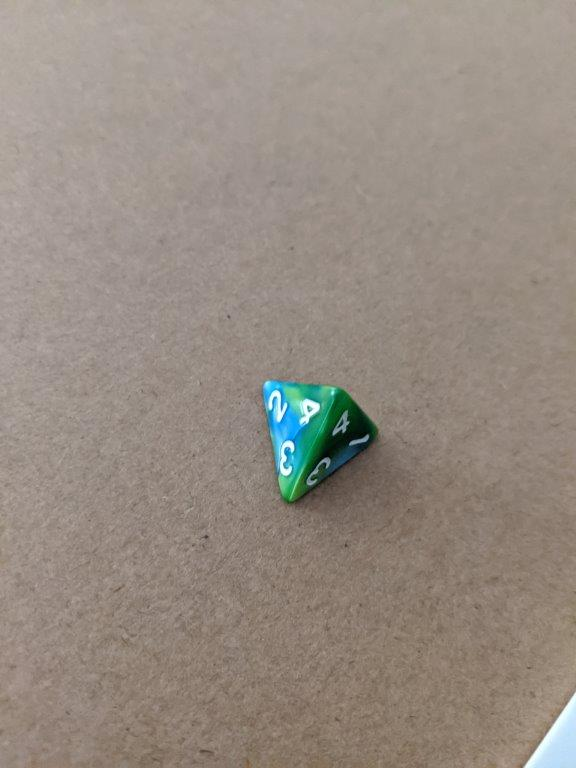d4-4: (257, 370, 379, 506)
